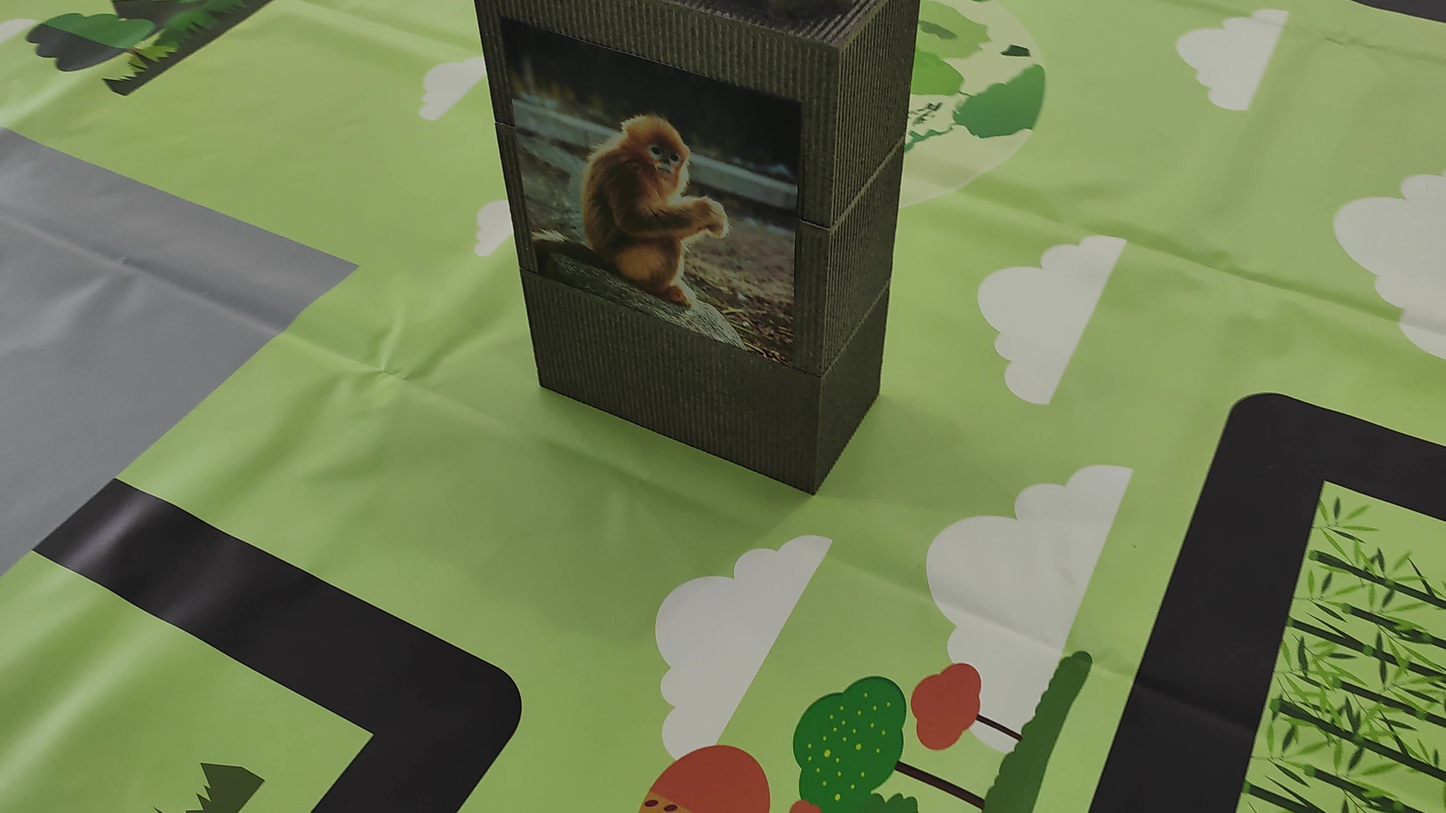monkey: (521, 80, 782, 363)
